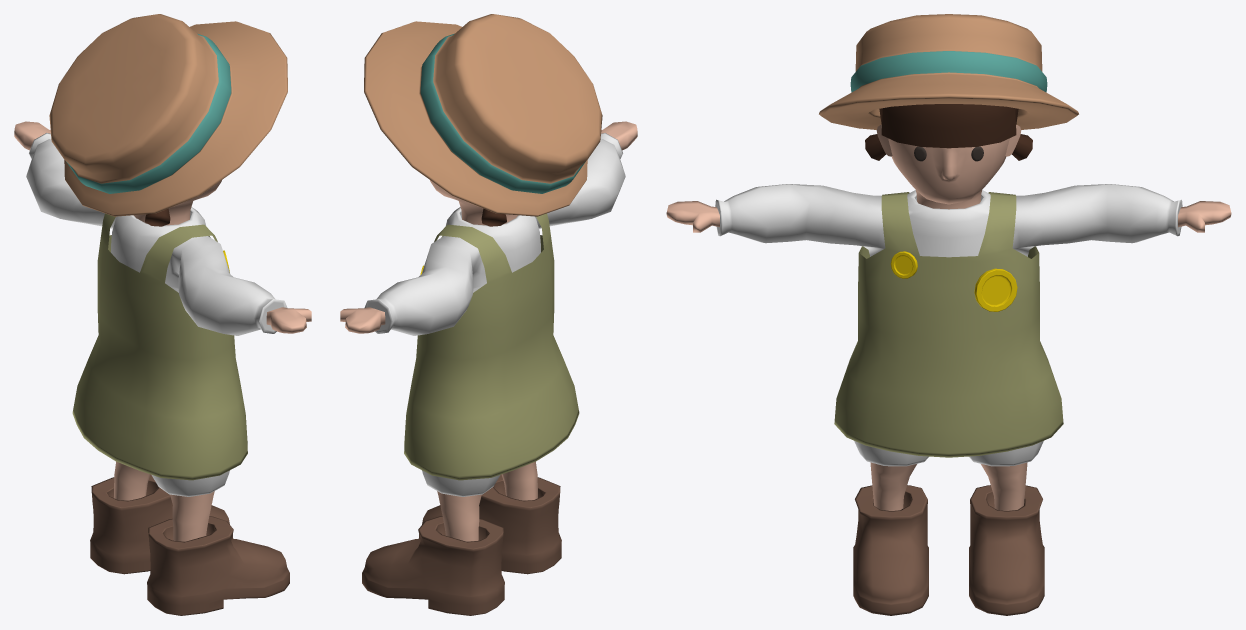
The model's file is orange_MD.fbx.
3 renders of one model, left to right at view 1: azimuth 30°, elevation 25°; view 2: azimuth 150°, elevation 25°; view 3: azimuth 270°, elevation 25°, orthographic.
Visible parts, largest first — view 1: orange_mesh; view 2: orange_mesh; view 3: orange_mesh.
Boxes of the visible parts, x1,y1,x2,y2 form: orange_mesh: (14, 14, 311, 615); orange_mesh: (340, 14, 637, 615); orange_mesh: (666, 14, 1231, 615).
Size of the model in its own units: 0.3904 by 0.9995 by 0.9135.
